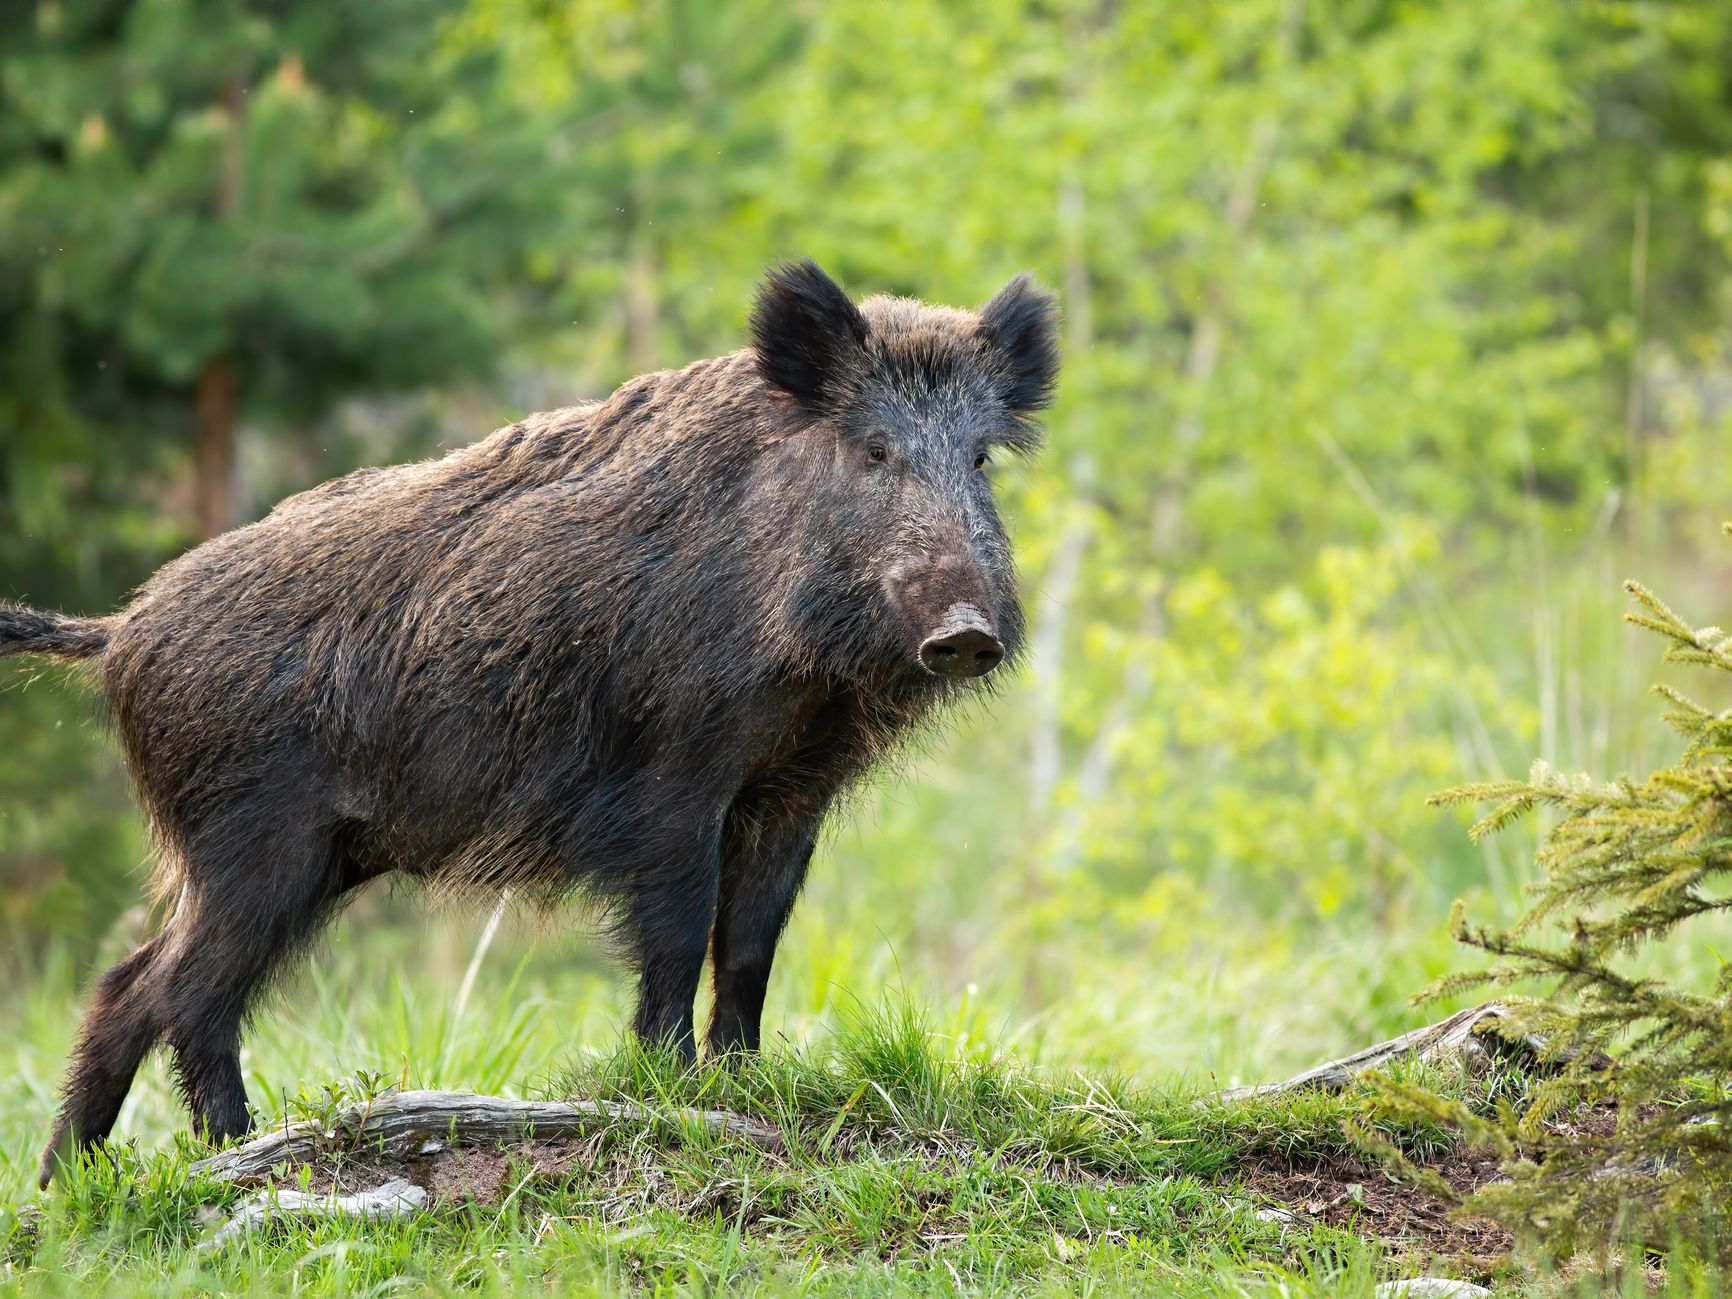boar: (31, 235, 1068, 1197)
